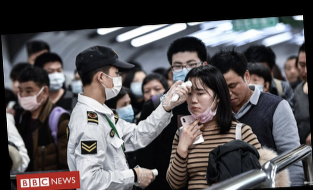mask_weared_incorrect: (185, 86, 216, 124)
with_mask: (171, 58, 201, 85), (16, 84, 41, 112), (104, 69, 124, 101), (45, 66, 66, 92), (115, 98, 135, 124), (130, 75, 148, 98), (71, 75, 84, 95)
without_mask: (225, 79, 247, 107), (284, 63, 301, 84), (296, 59, 307, 85)
